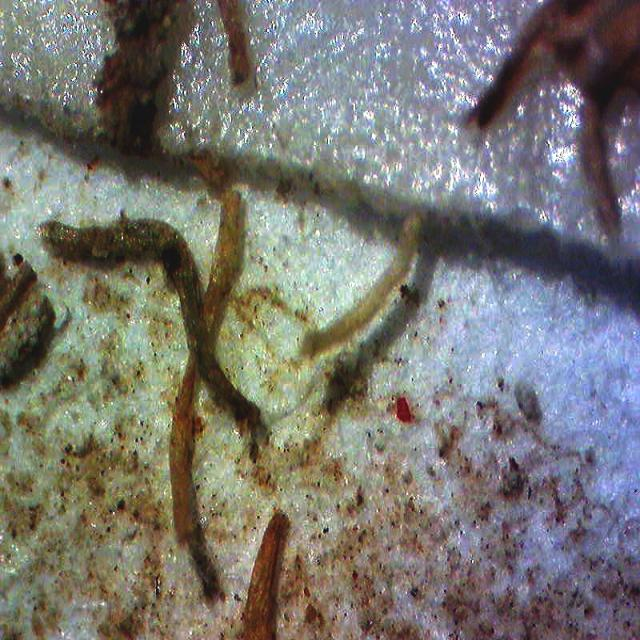microplastic: (396, 396, 411, 426)
